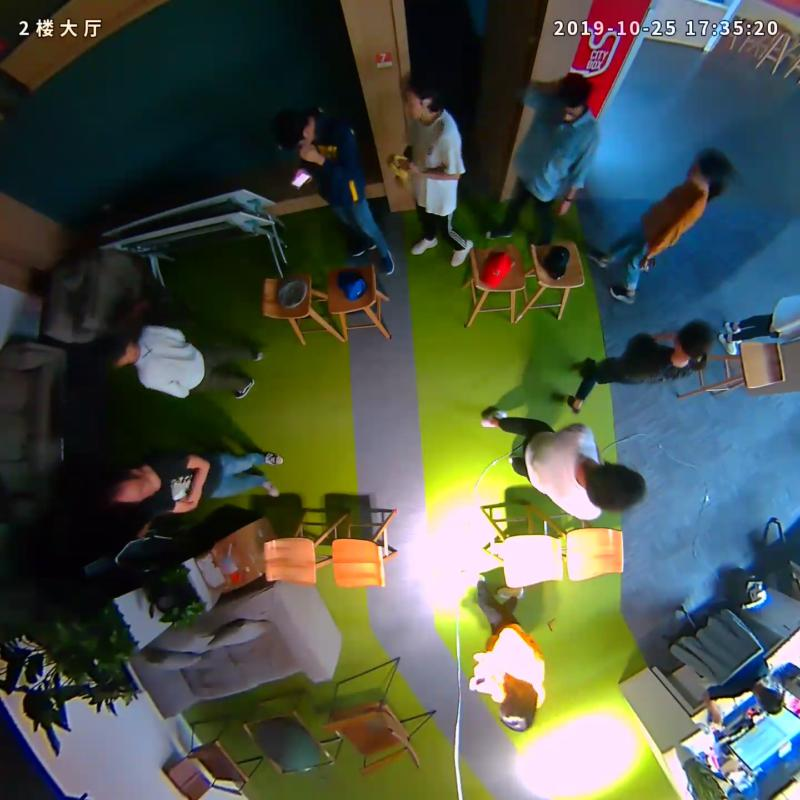head: (588, 462, 646, 512), (96, 463, 157, 506), (402, 68, 443, 121), (686, 148, 734, 193), (496, 682, 538, 731), (274, 106, 318, 152), (557, 71, 593, 121), (674, 320, 714, 362), (97, 330, 137, 369)
